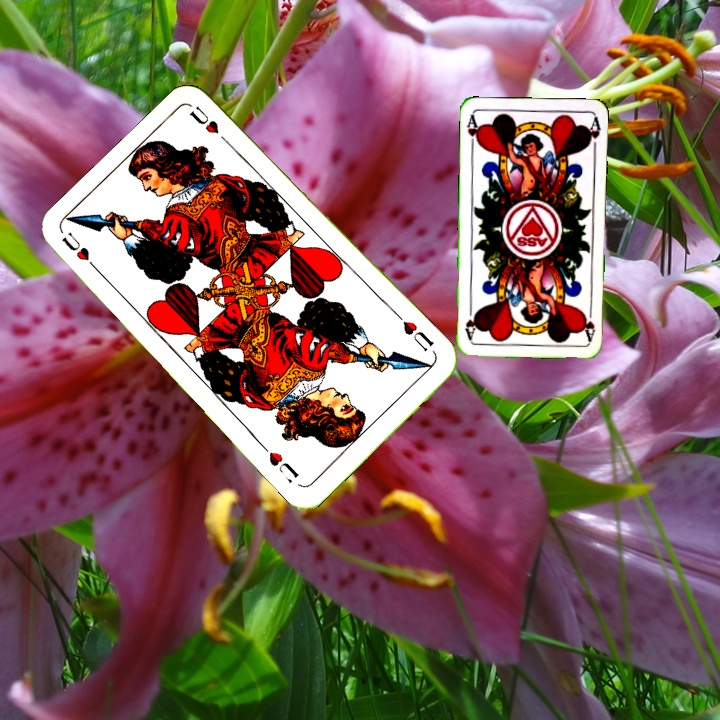HA: (463, 111, 482, 152), (580, 302, 597, 343)
HU: (57, 228, 104, 277), (393, 310, 437, 354)
